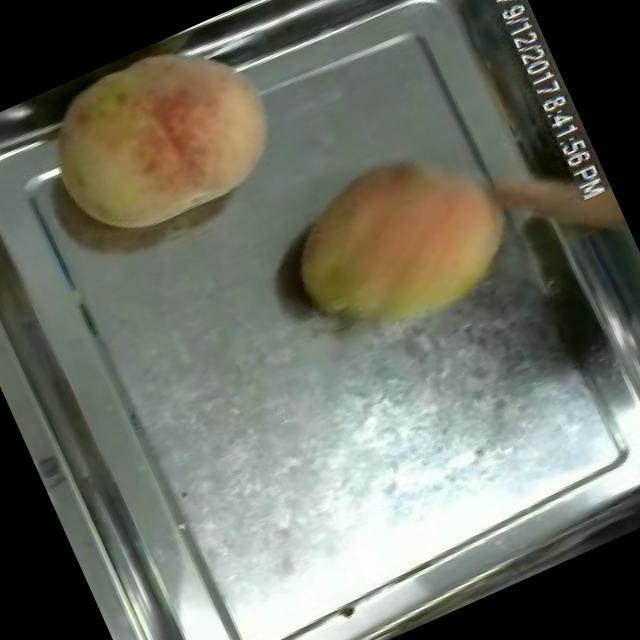Fruit: (20, 8, 307, 270), (261, 117, 544, 375)
